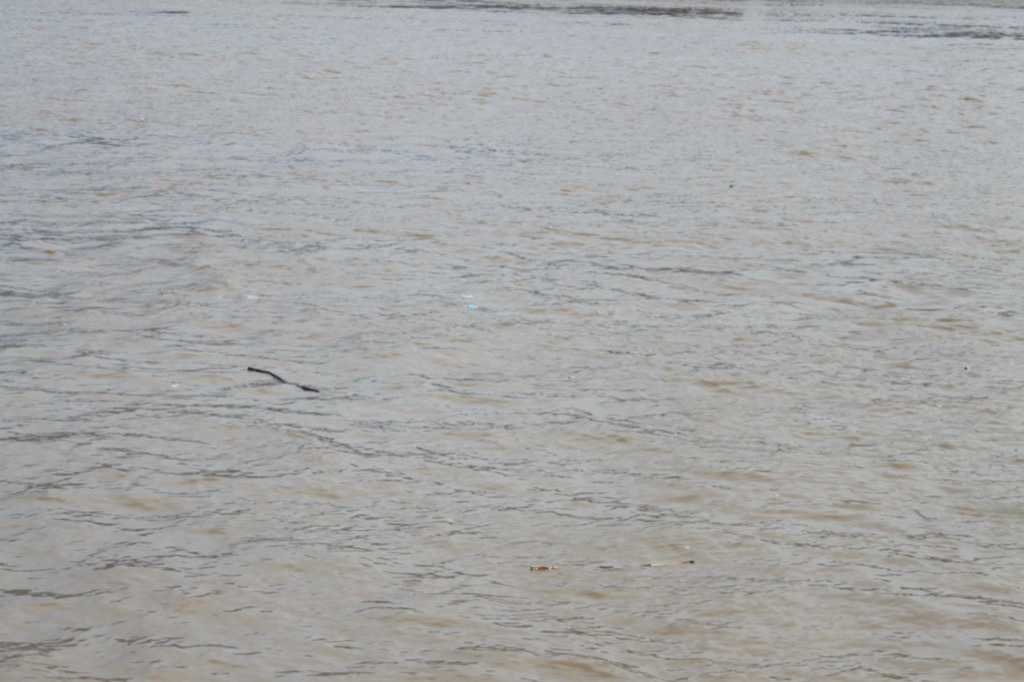organic: (509, 546, 707, 585), (238, 360, 333, 402), (726, 179, 739, 193), (958, 363, 973, 373)
plastic: (163, 375, 184, 395), (454, 287, 476, 303), (465, 300, 483, 313)
